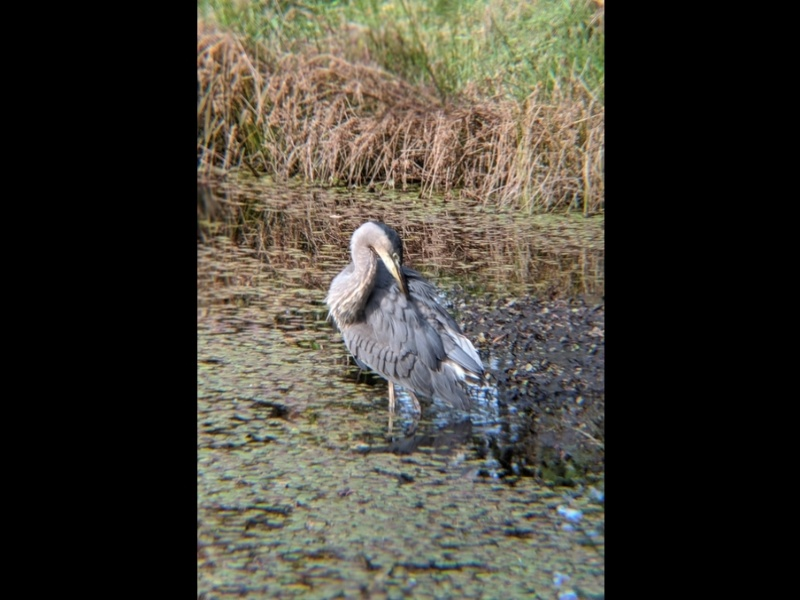heron: (320, 218, 493, 434)
